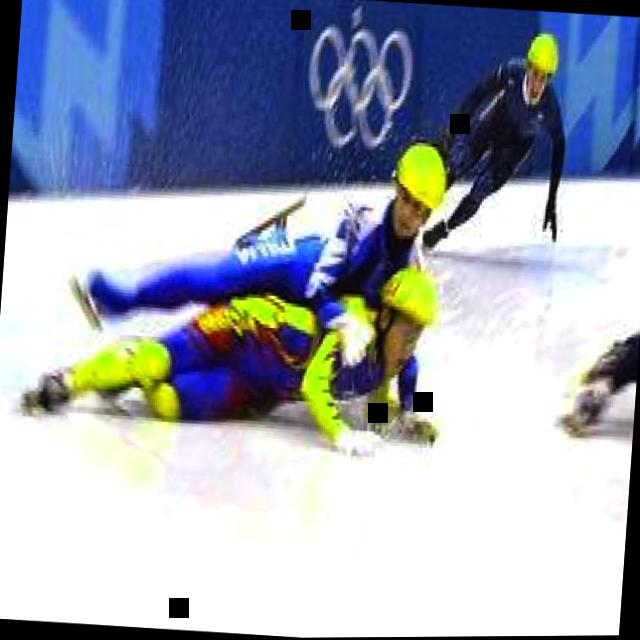Fall-Detected: (60, 89, 449, 338)
